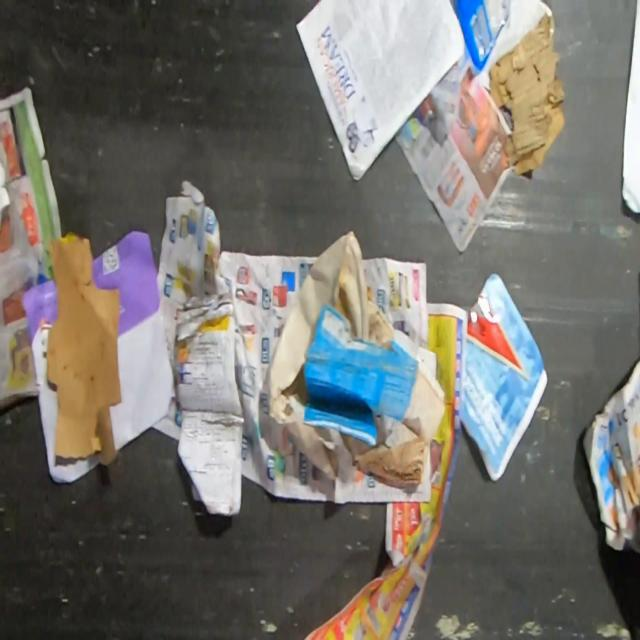cardboard: (266, 227, 448, 491), (460, 271, 550, 481), (46, 228, 122, 466), (488, 12, 566, 175), (580, 358, 640, 554)
soft_plastic: (449, 0, 510, 71)
